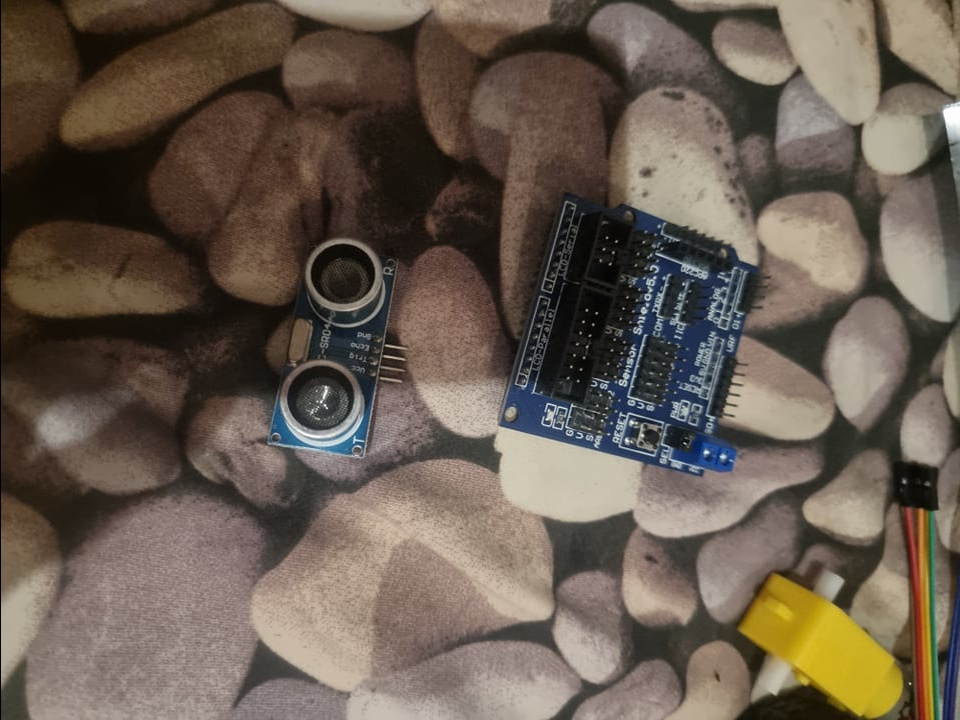5V EXPANSION: (496, 195, 769, 478)
SENSOR: (263, 234, 397, 460)
